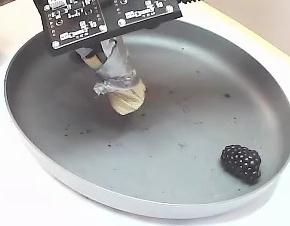berry: (221, 145, 260, 184)
